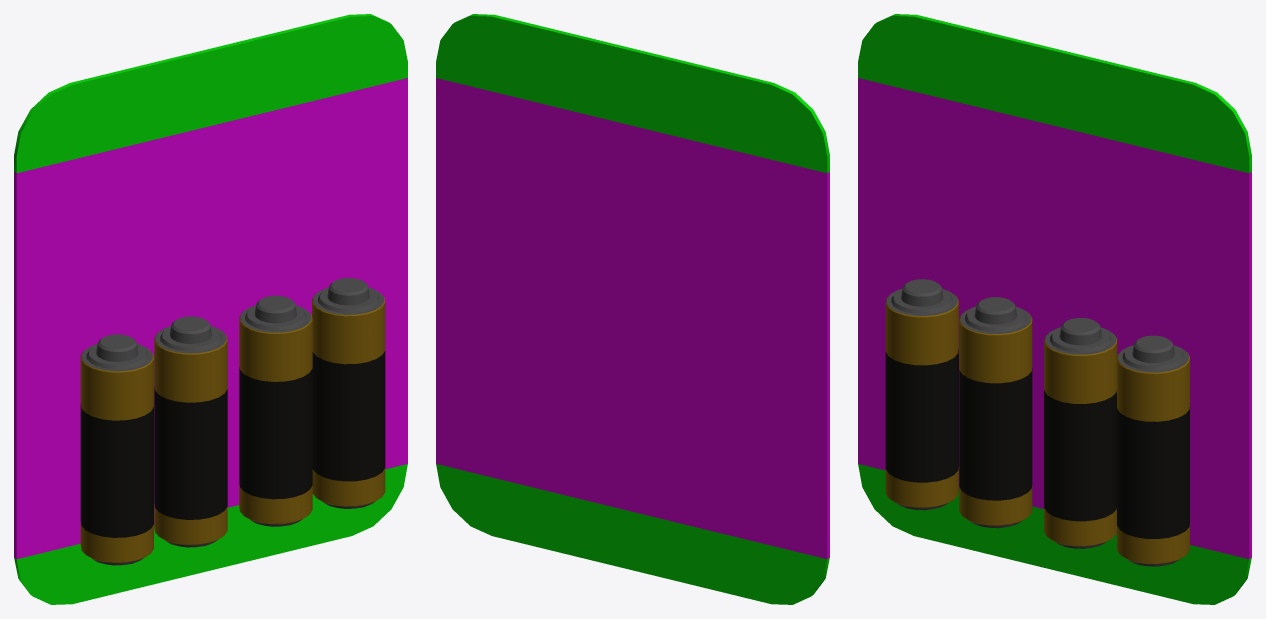
Rendered from berrty_pack.fbx.
The picture shows the model from 3 angles, left to right: view 1: azimuth 30°, elevation 25°; view 2: azimuth 150°, elevation 25°; view 3: azimuth 330°, elevation 25°; orthographic projection.
Visible parts, largest first — view 1: batteri_pack; view 2: batteri_pack; view 3: batteri_pack.
Part boxes in pixels (left/top/right/bottom): batteri_pack: left=14, top=14, right=407, bottom=604; batteri_pack: left=436, top=14, right=829, bottom=604; batteri_pack: left=858, top=14, right=1251, bottom=604.
Bounding box in the file's own units: 4.6 × 5.83 × 0.8007.
